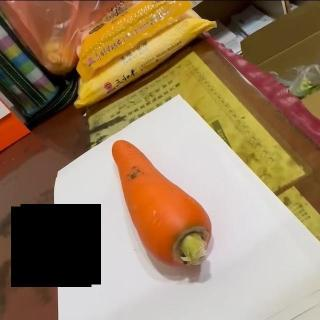carrot: (112, 137, 214, 271)
